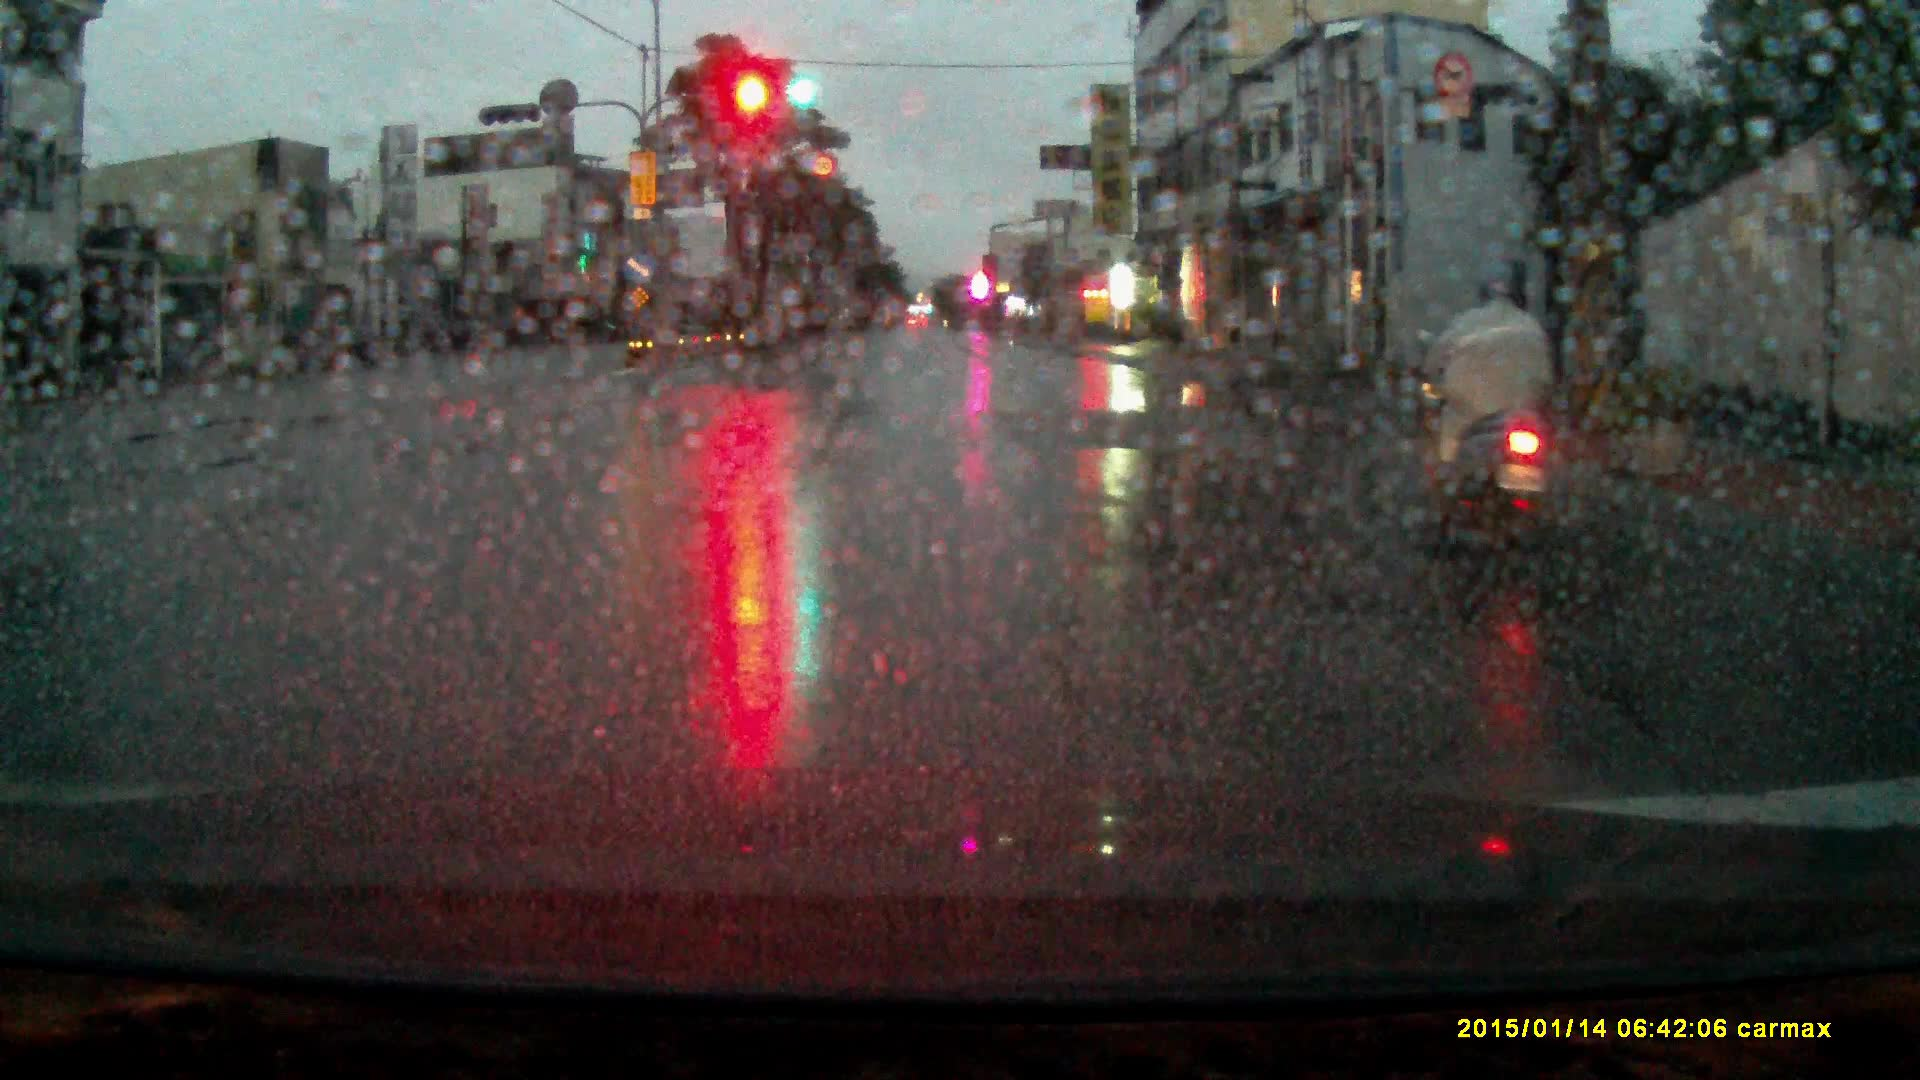rider: (1431, 254, 1594, 599)
